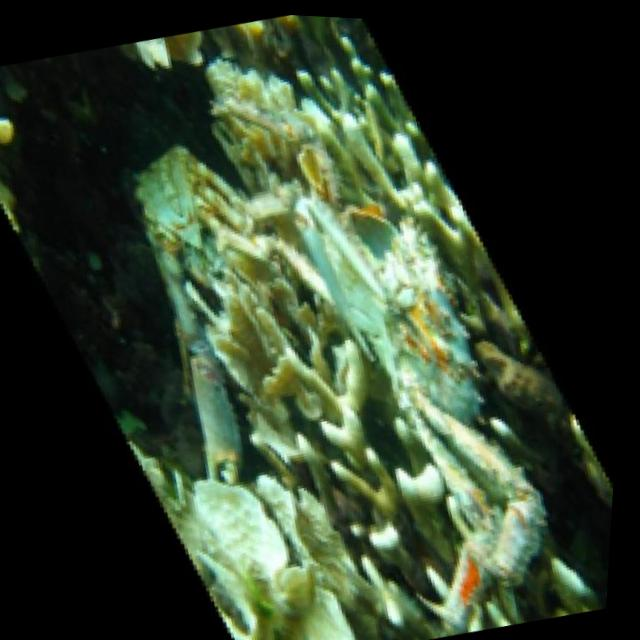Dead Coral: (173, 264, 473, 568)
